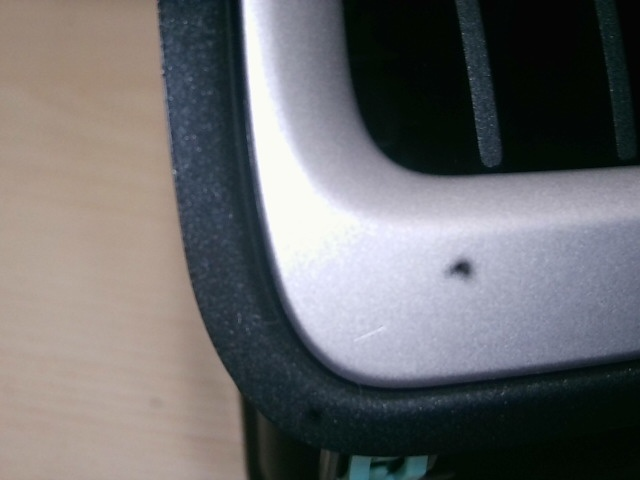NG: (351, 319, 390, 348)
